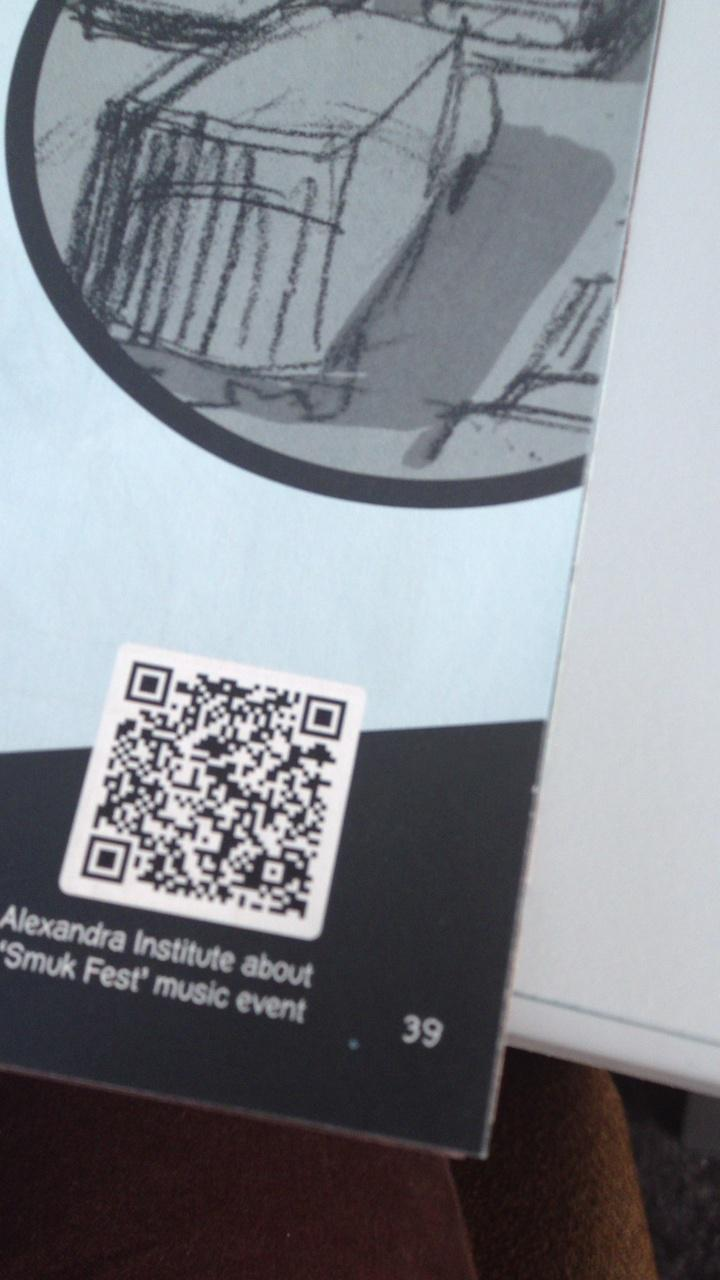Finder pattern: (76, 833, 133, 887), (122, 657, 174, 709), (300, 691, 349, 742)
